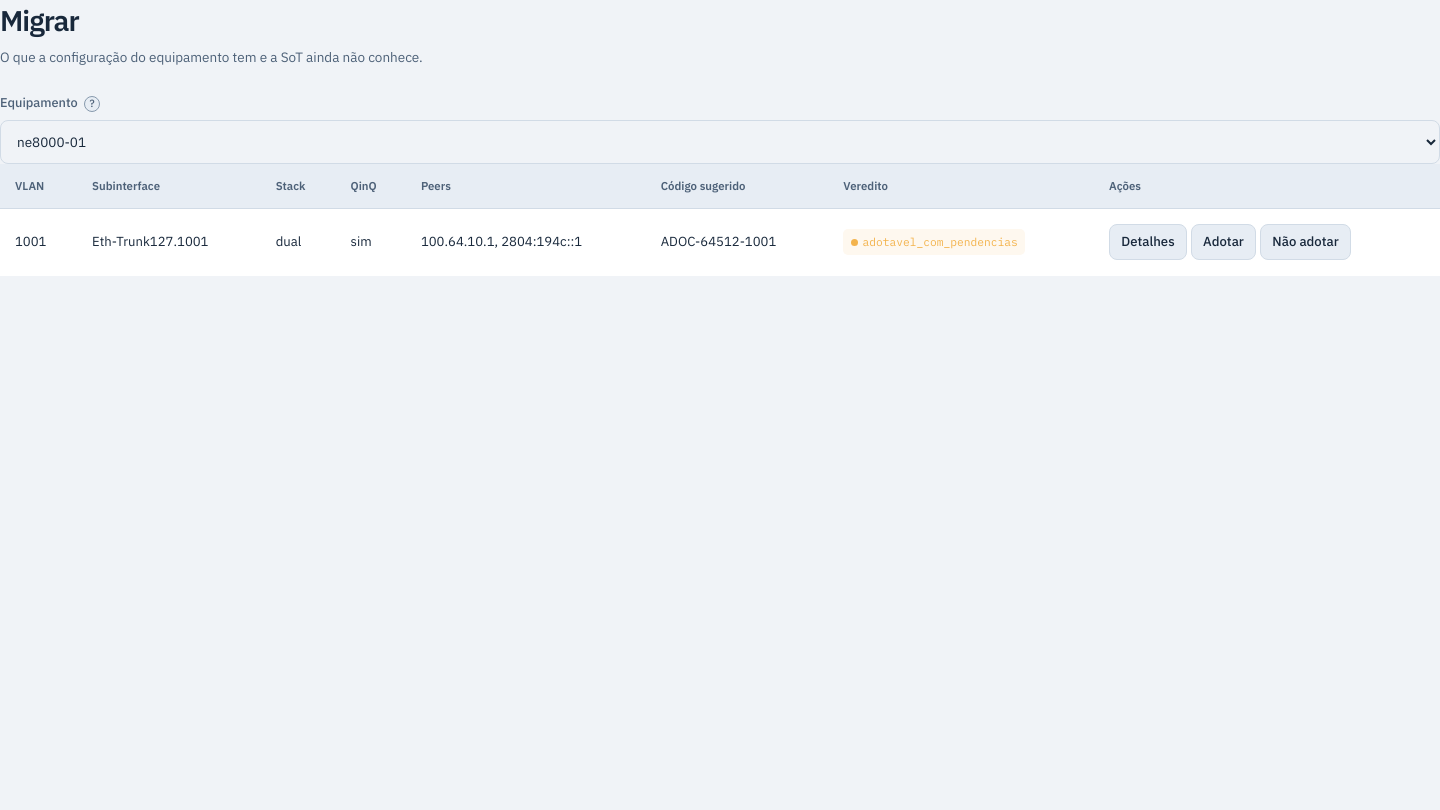
Test case: Discovery › a falha no primeiro POST diz que nenhum peer saiu
The width and height of the screenshot is (1440, 810).
Click the button "Não adotar" at (1306, 242), box [1260,224,1351,260]
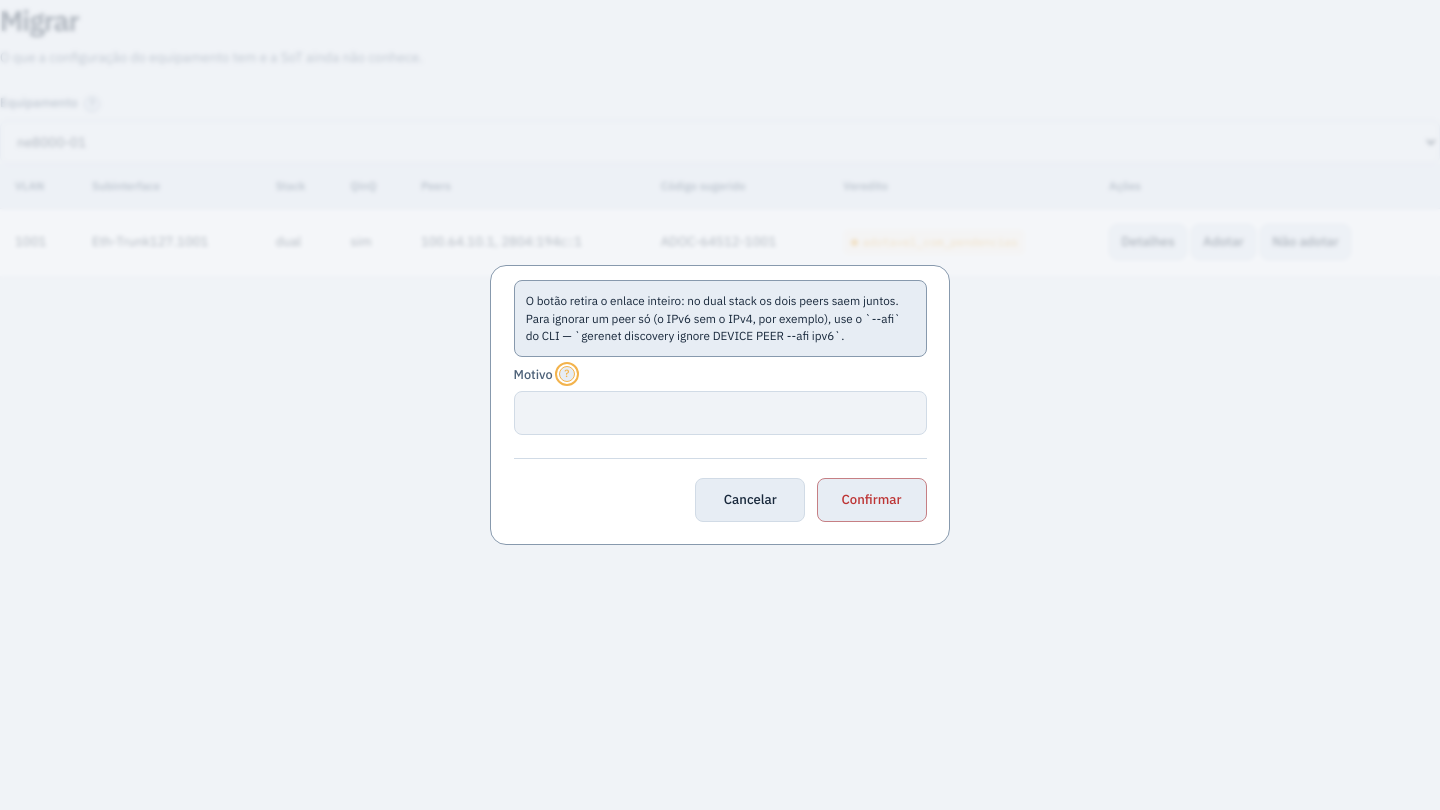
Click the button "Confirmar" at (872, 500), box [816,478,926,522]
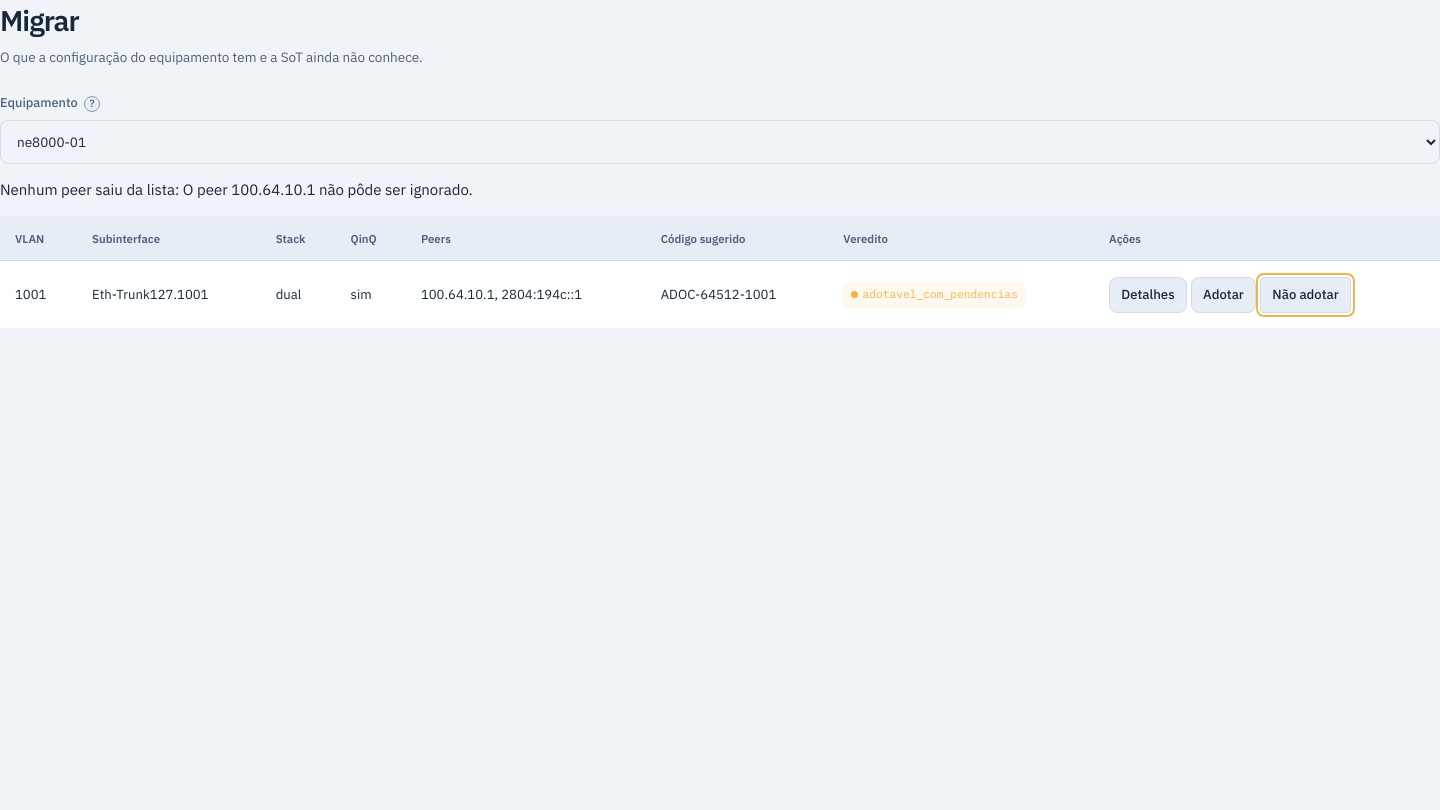
Now the message reads "Nenhum peer saiu da lista: O peer 100.64.10.1 não pôde ser ignorado.", box [0,180,473,199]
